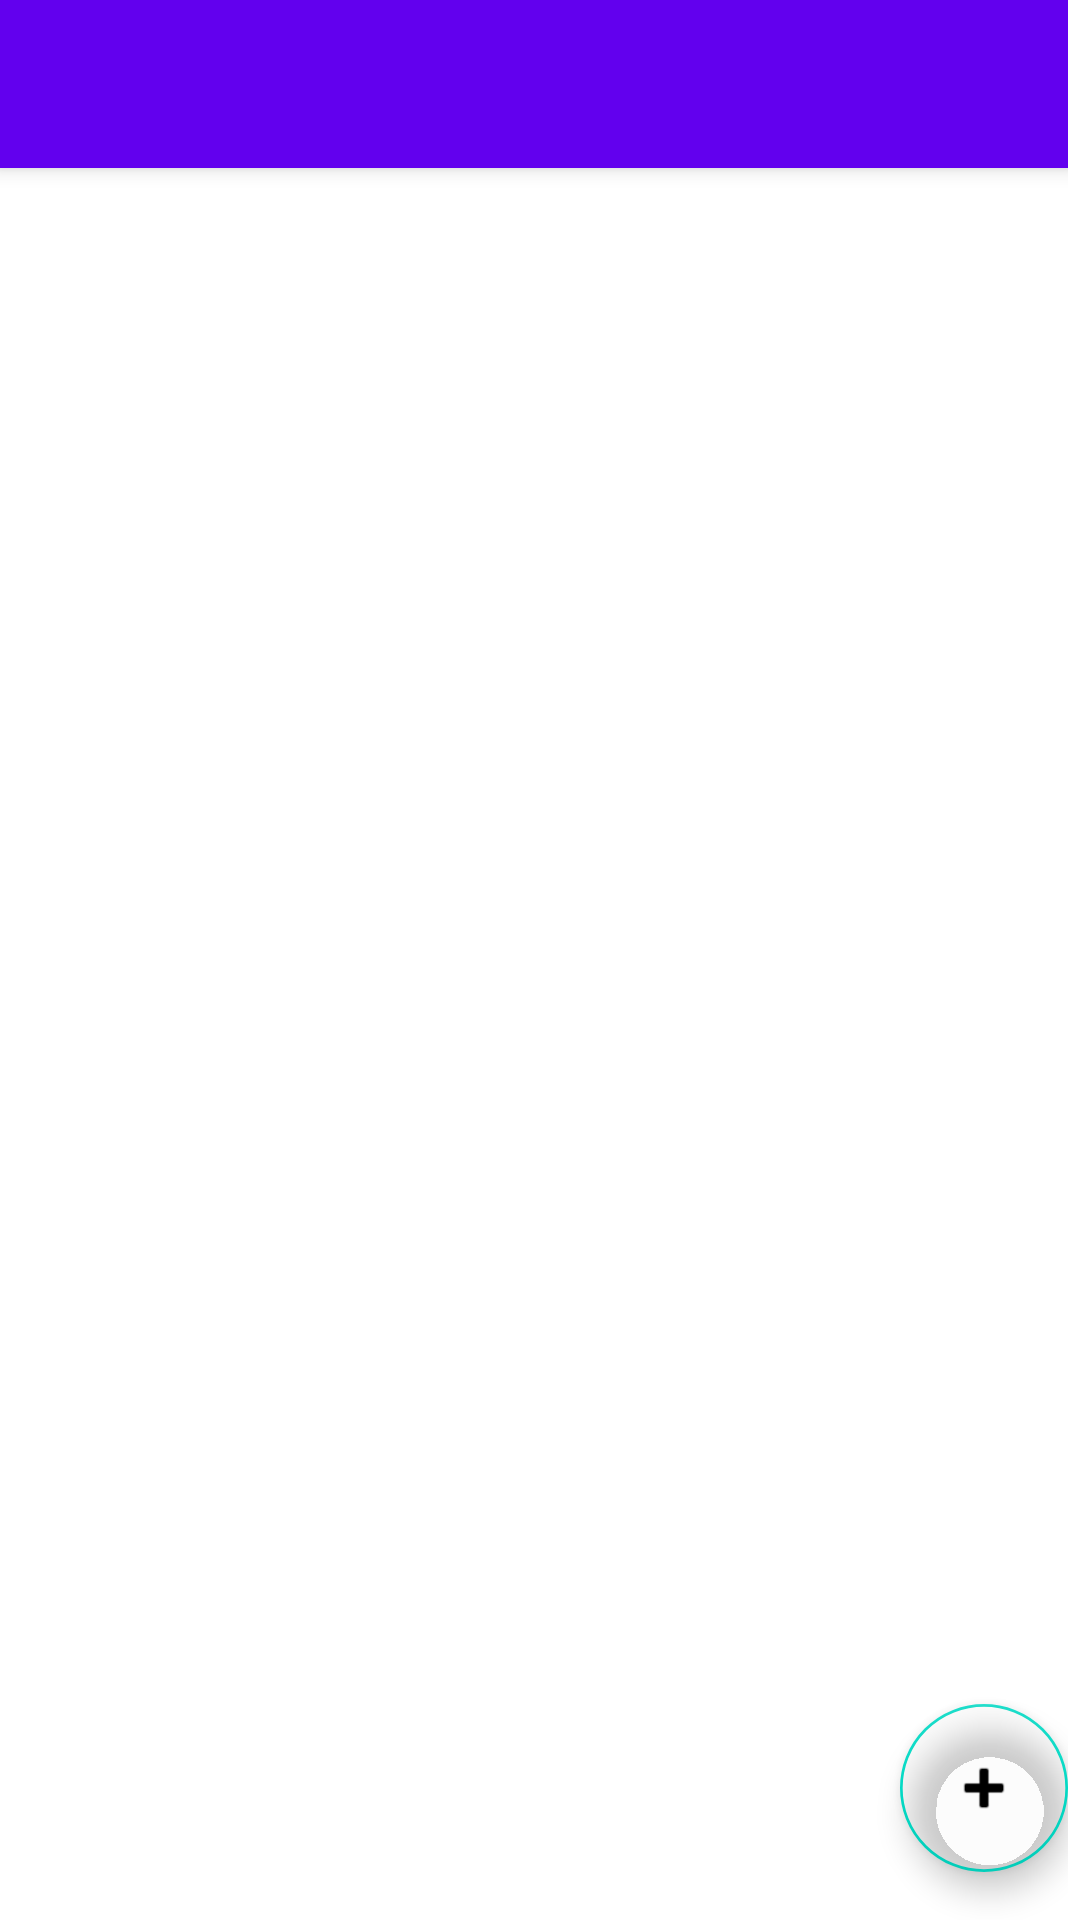

Point at icon controls on the screen. Image size 1080w x 1920h, points as (x=x, y=y).
add: (x=984, y=1788)
